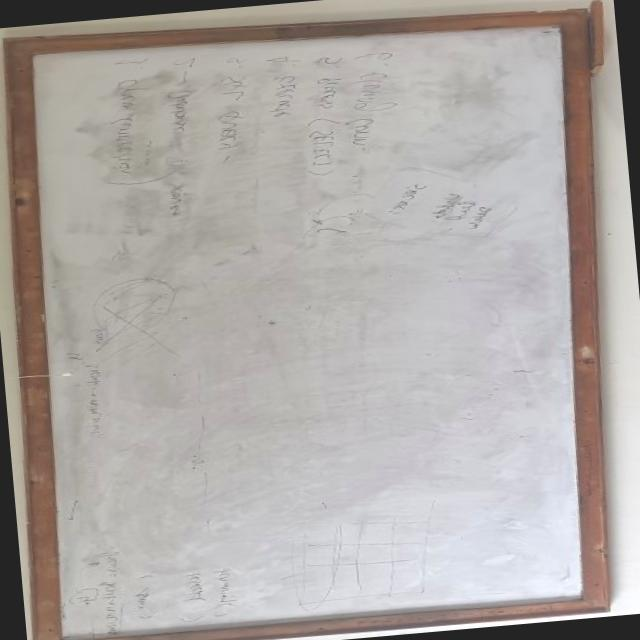White-board: (25, 14, 596, 640)
